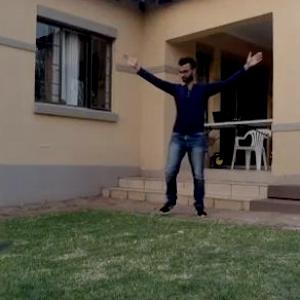takeoff: (120, 46, 268, 213)
